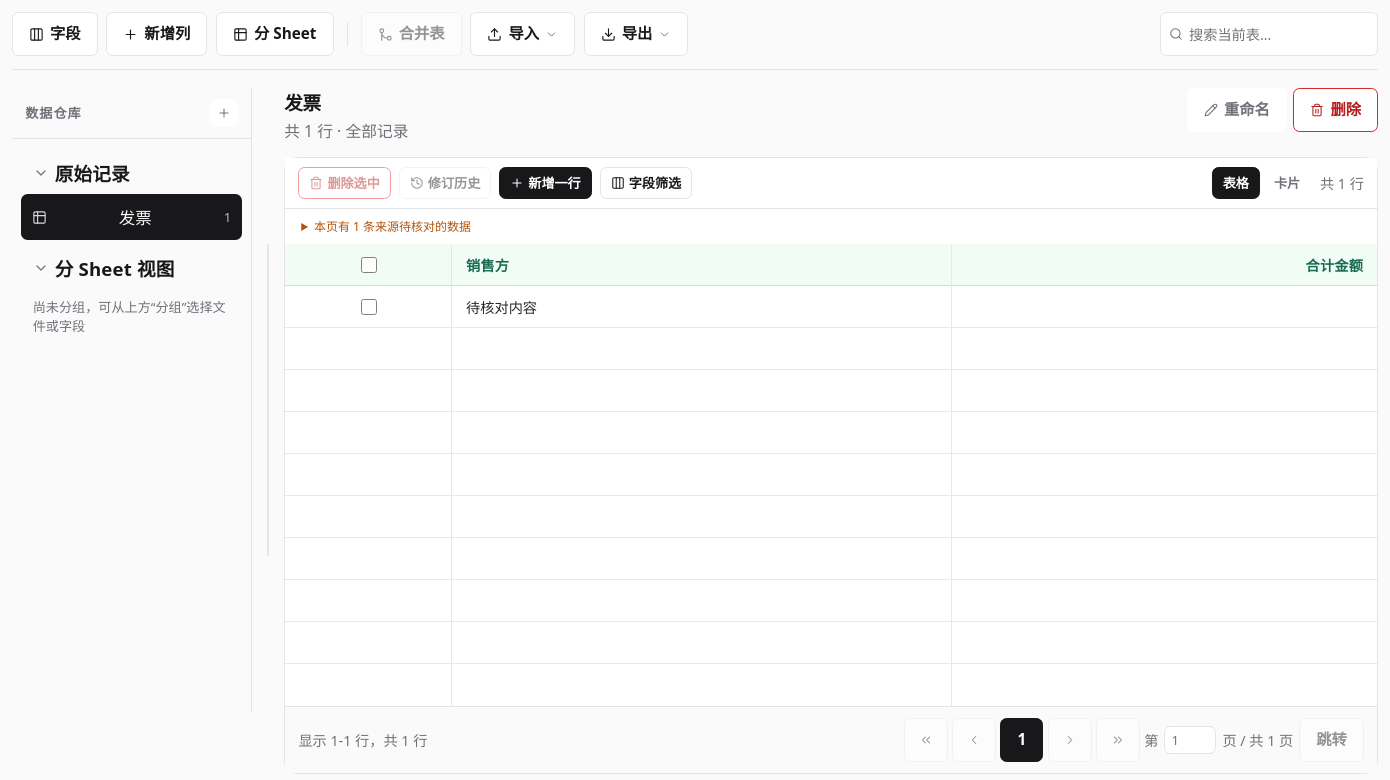
DataTablePage › keeps pending source information visible in both presentations
Expected: the heading "本页有 1 条来源待核对的数据" is shown, x1=314 y1=218 x2=471 y2=235
Click the button "卡片" at point(1287, 183), box x1=1263 y1=167 x2=1311 y2=199
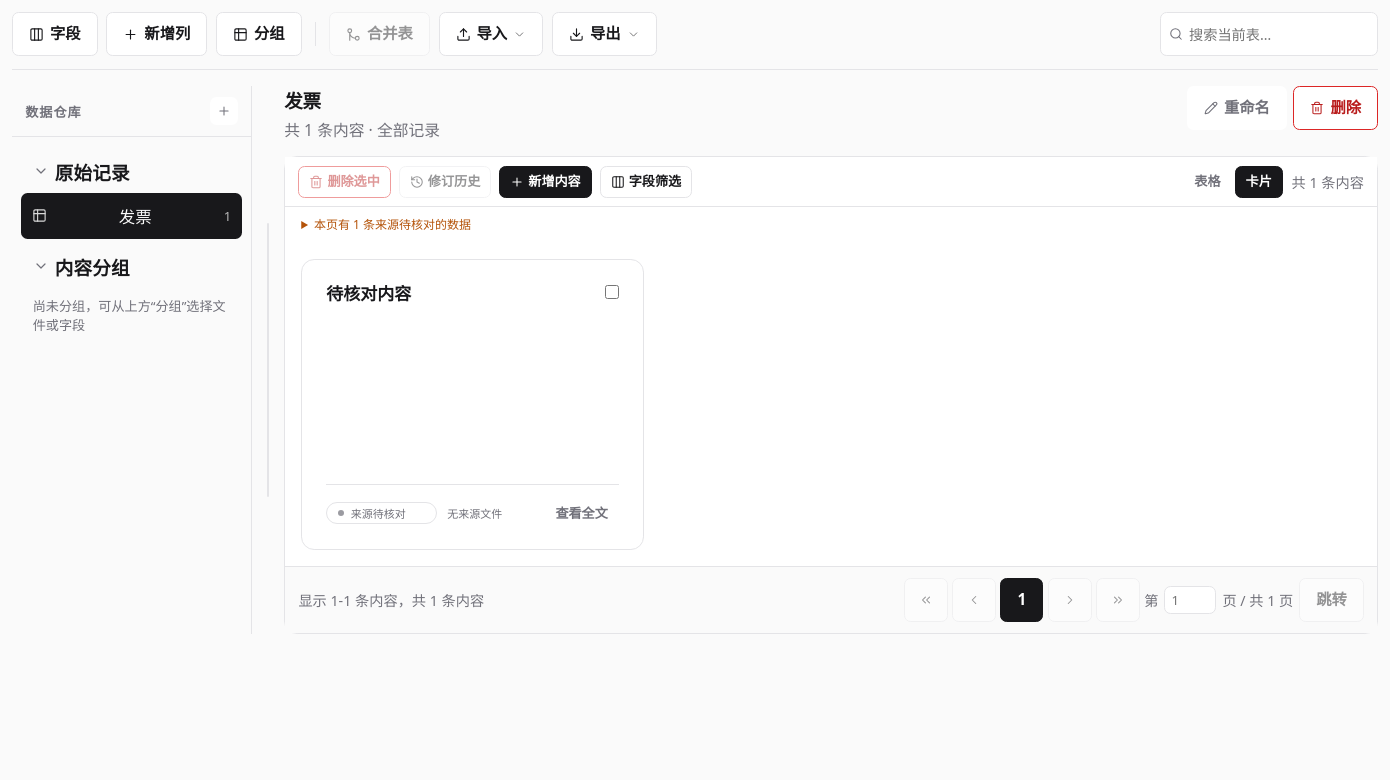
Expected: the heading "本页有 1 条来源待核对的数据" is shown, x1=314 y1=216 x2=471 y2=233
Result: the text "来源待核对" is shown at x1=326 y1=502 x2=437 y2=524
